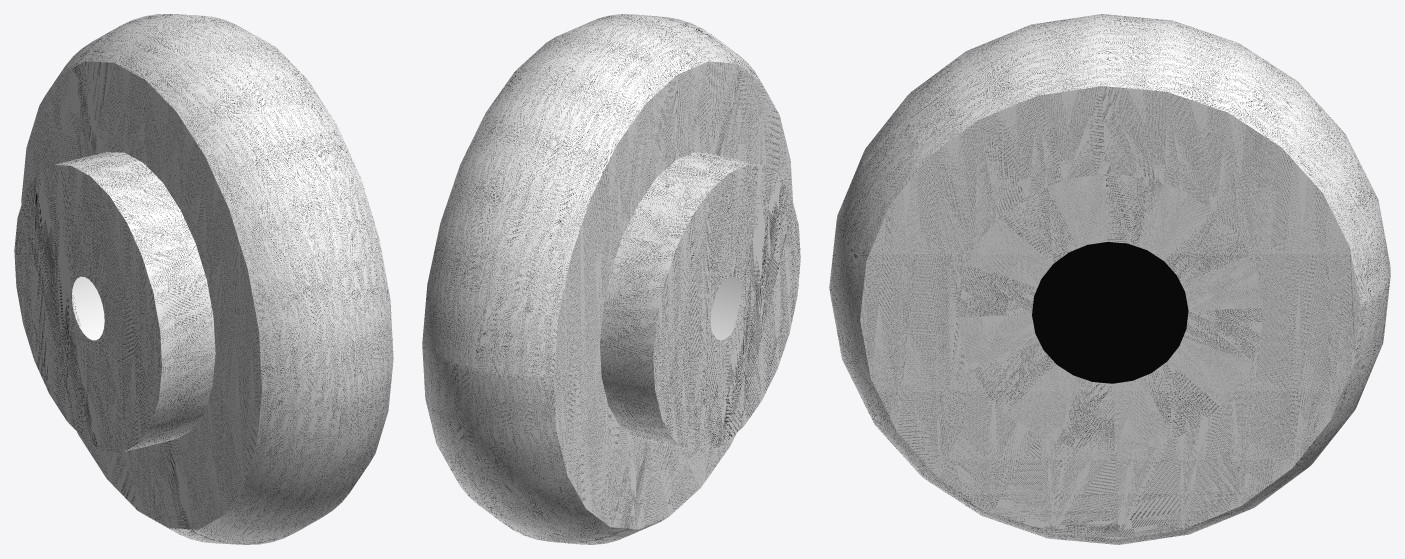
3 views of the same model, side by side, from view 1: azimuth 30°, elevation 25°; view 2: azimuth 150°, elevation 25°; view 3: azimuth 270°, elevation 25° (orthographic). The views are drawn at different scales.
Bounding box in the file's own units: 0.0977 × 0.2474 × 0.2472.
